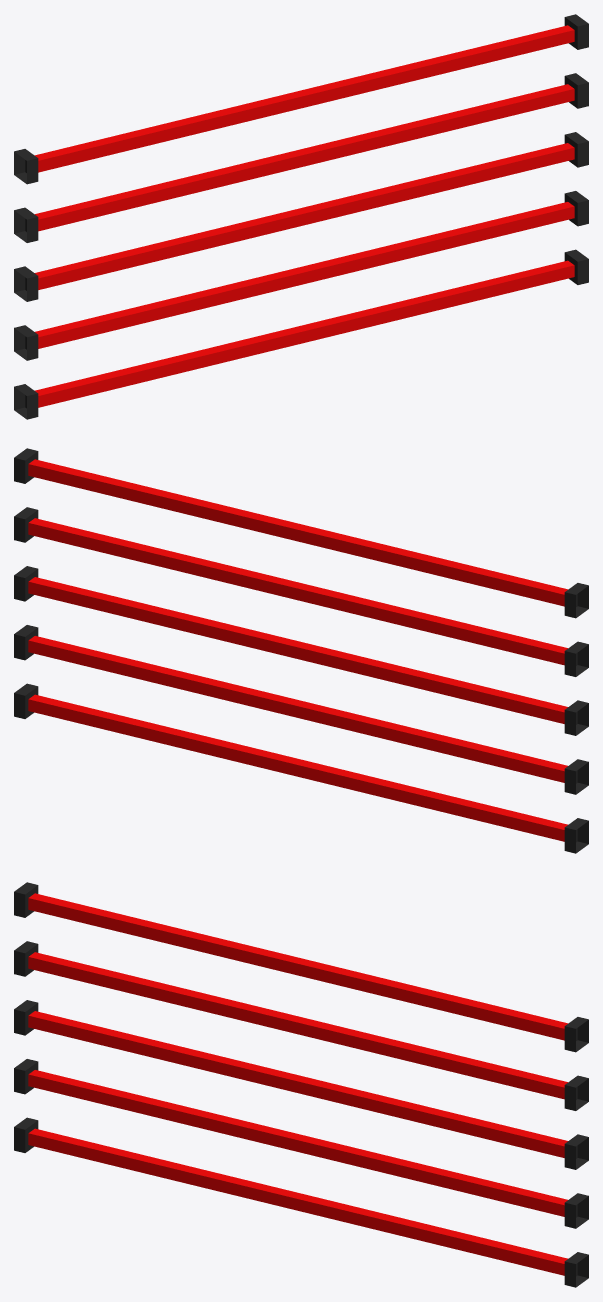
File: laser.fbx
3 views of the same model, one above another, from view 1: azimuth 30°, elevation 25°; view 2: azimuth 150°, elevation 25°; view 3: azimuth 330°, elevation 25° (orthographic).
Parts seen in each view (by area): view 1: Laser, LaserOutput; view 2: Laser, LaserOutput; view 3: Laser, LaserOutput.
Boxes of the visible parts, <box> form: Laser: <box>35,25,574,407</box>; LaserOutput: <box>14,14,588,419</box>; Laser: <box>28,459,567,841</box>; LaserOutput: <box>14,448,588,853</box>; Laser: <box>28,893,567,1275</box>; LaserOutput: <box>14,882,588,1287</box>.
Bounding box in the file's own units: 1000 × 440 × 40.
